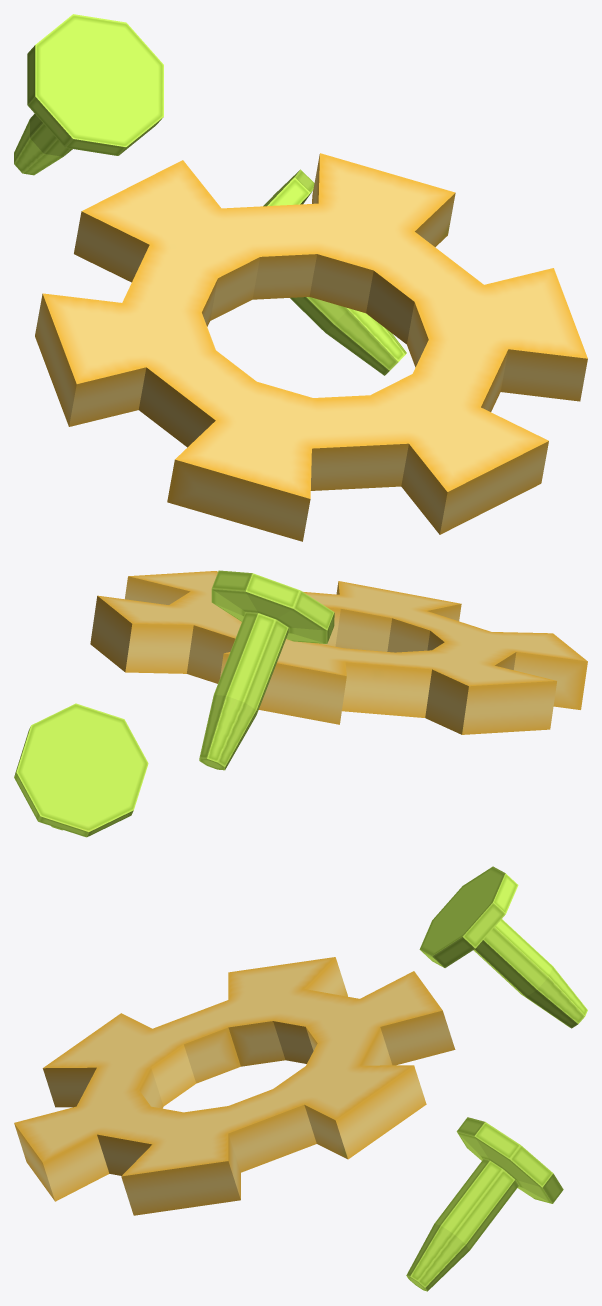
File: gear_fix.fbx
3 views of the same model, one above another, from view 1: azimuth 30°, elevation 25°; view 2: azimuth 150°, elevation 25°; view 3: azimuth 270°, elevation 25° (orthographic). The views are drawn at different scales.
Visible parts, largest first — view 1: Cylinder, Cube.frozen, Cube.frozen.001; view 2: Cylinder, Cube.frozen.001, Cube.frozen; view 3: Cylinder, Cube.frozen, Cube.frozen.001.
Part boxes in pixels (<box>): Cylinder: <box>35,153,587,541</box>; Cube.frozen: <box>14,14,163,175</box>; Cube.frozen.001: <box>263,169,406,375</box>; Cylinder: <box>90,571,587,734</box>; Cube.frozen.001: <box>14,703,148,837</box>; Cube.frozen: <box>199,570,334,770</box>; Cylinder: <box>14,957,455,1215</box>; Cube.frozen: <box>419,866,587,1028</box>; Cube.frozen.001: <box>406,1117,563,1291</box>.
Size of the model in its own units: 85.51 by 66.3 by 110.
1 material, 1 textured.
